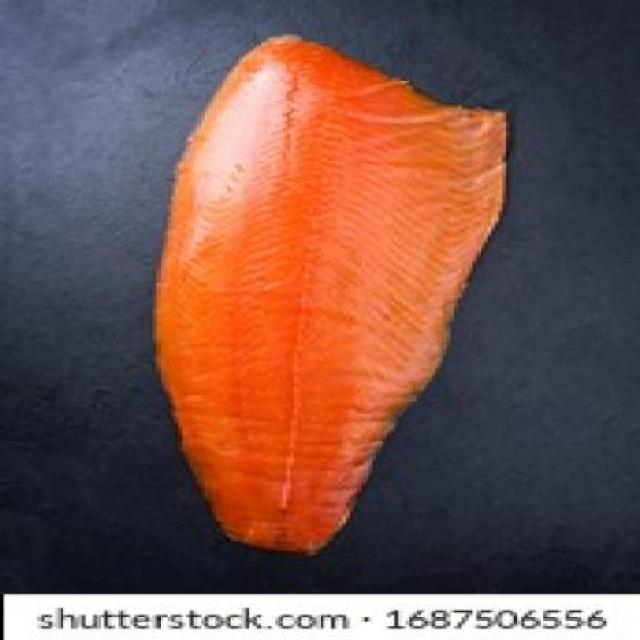salmon: (97, 13, 551, 564)
